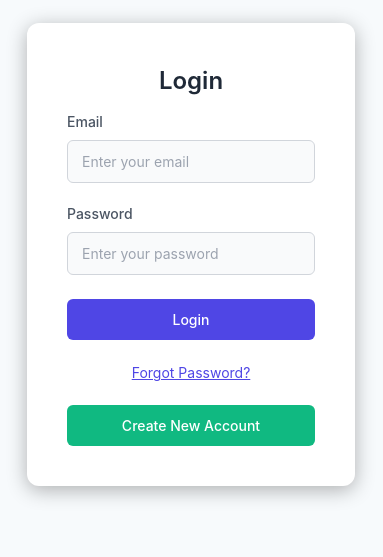
Test: AuthForm Component › toggles between login and signup modes correctly
The image size is (383, 557).
Expected: the heading "Login" is shown, left=159, top=66, right=223, bottom=95
What coordinates should you click on to do the following:
click the button "Create New Account"
I would click on:
 (191, 426)
Its box is left=67, top=405, right=315, bottom=446.
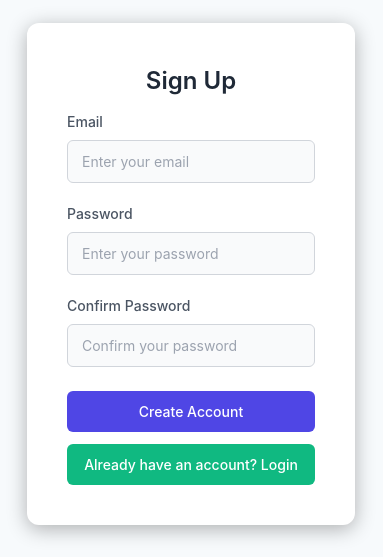
Expected: the heading "Sign Up" is shown, left=146, top=66, right=236, bottom=95
What coordinates should you click on to do the following:
click the button "Already have an account? Login"
I would click on:
 (191, 464)
Its box is left=67, top=444, right=315, bottom=485.
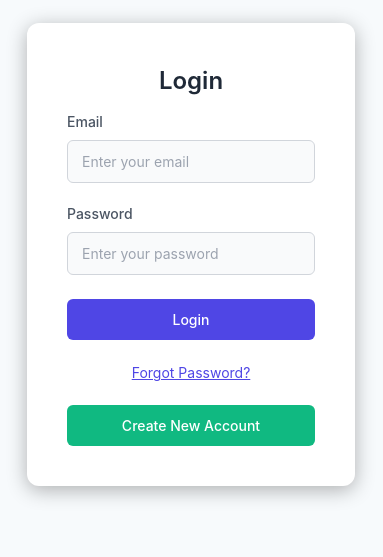
Expected: the heading "Login" is shown, left=159, top=66, right=223, bottom=95
